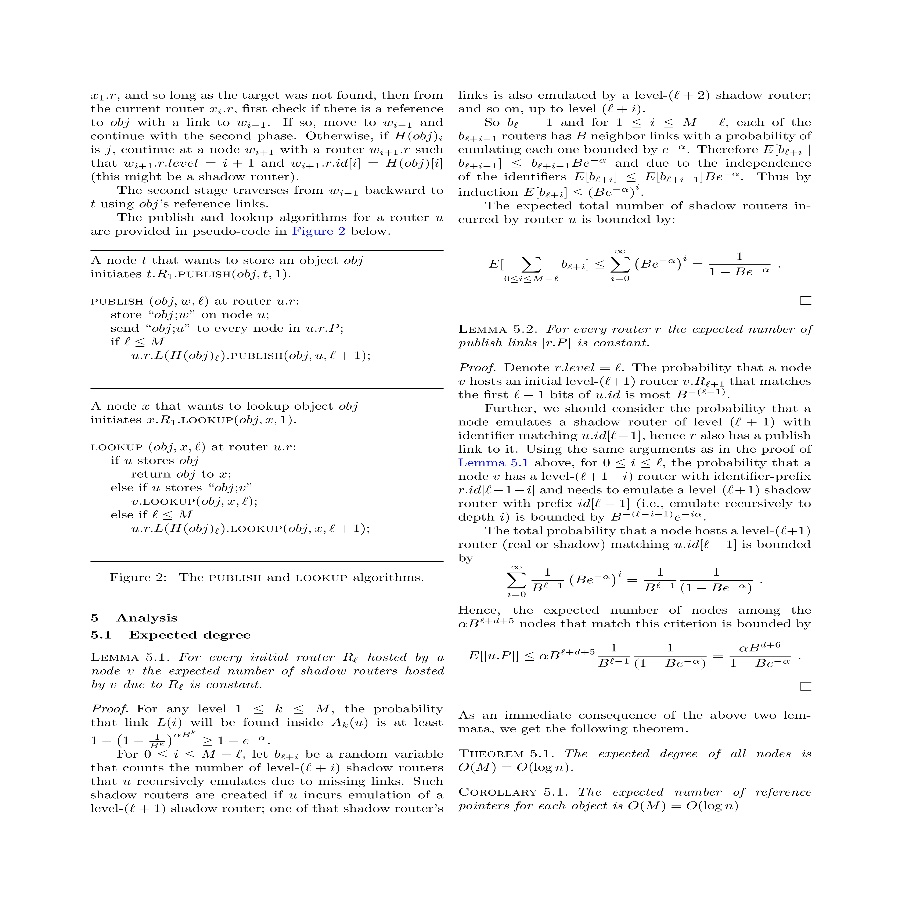eq: (488, 248, 774, 286), (467, 639, 795, 672), (504, 562, 757, 602), (129, 521, 366, 537), (128, 349, 367, 363), (91, 729, 266, 748), (629, 800, 742, 812), (124, 334, 166, 348), (150, 508, 197, 520)
